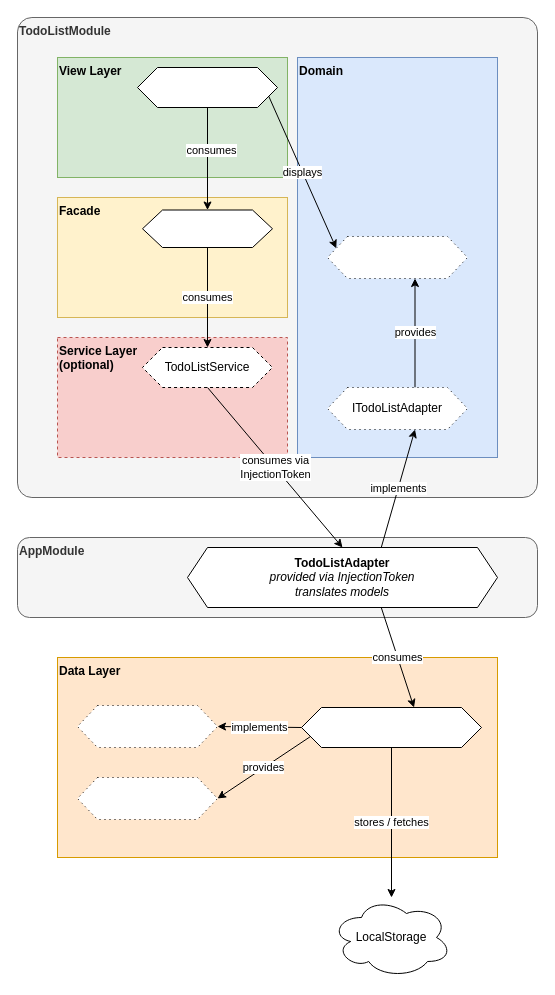
Some shapes in this 555 by 995 pixel diagram are drawn without their labels. Each missing label, with the centre of its shape:
ITodoStorageAdapter: point 147,726
TodoItem: point 147,798
TodoListComponent: point 207,87
TodoListFacade: point 207,228
TodoListItem: point 397,257
TodoStorageAdapter LocalStorage: point 391,727
